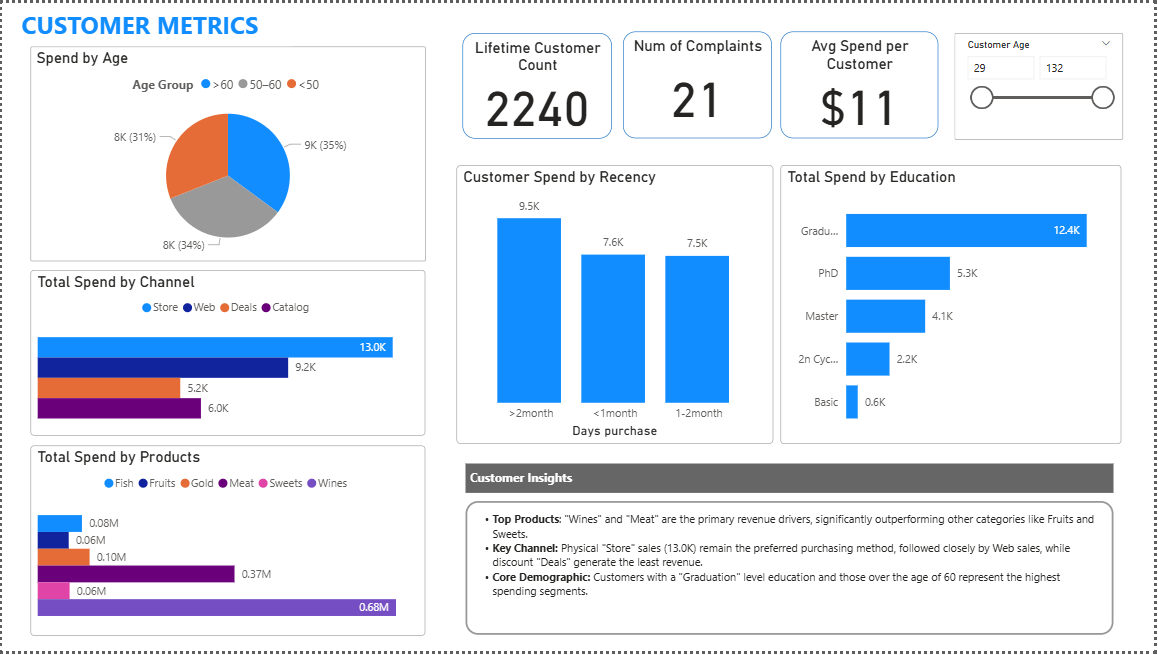

The page's visual inventory and layout, read from the dashboard file:
{"tool":"powerbi","page":{"name":"Customer Details","canvas":[1280,720],"ordinal":0},"visuals":[{"type":"card","title":"Lifetime Customer Count","fields":{"Values":["CountNonNull(marketing_campaign.ID)"]},"box":[512,33.7,165.9,117.3],"z":0,"group":"g1"},{"type":"pieChart","title":"Spend by Age","fields":{"Y":["Sum(marketing_campaign.Z_Revenue)"],"Category":["marketing_campaign.Age Group"]},"box":[31.3,48.4,439.5,238.9],"z":0},{"type":"card","title":"Num of Complaints","fields":{"Values":["Sum(marketing_campaign.Complain)"]},"box":[689.5,32,165,118.8],"z":1000,"group":"g1"},{"type":"textbox","box":[515.7,511.4,720,32.9],"z":1000},{"type":"card","title":"Avg Spend per Customer","fields":{"Values":["Avg(marketing_campaign.Z_Revenue)"]},"box":[865.8,32,175,118.8],"z":2000,"group":"g1"},{"type":"clusteredBarChart","title":"Total Spend by Channel","fields":{"Y":["Sum(marketing_campaign.NumStorePurchases)","Sum(marketing_campaign.NumWebPurchases)","Sum(marketing_campaign.NumDealsPurchases)","Sum(marketing_campaign.NumCatalogPurchases)"]},"box":[31.4,297.1,438.6,184.3],"z":2000},{"type":"textbox","box":[16,0,304,48],"z":3000},{"type":"textbox","box":[515.1,554,719.9,148.6],"z":4000},{"type":"group","id":"g1","title":"Group 2","box":[512,32,528.8,119],"z":5000},{"type":"clusteredColumnChart","title":"Customer Spend by Recency","fields":{"Category":["marketing_campaign.Days purchase"],"Y":["Sum(marketing_campaign.Z_Revenue)"]},"box":[505,180.3,352,310.2],"z":6000},{"type":"clusteredBarChart","title":"Total Spend by Products","fields":{"Y":["Sum(marketing_campaign.MntFishProducts)","Sum(marketing_campaign.MntFruits)","Sum(marketing_campaign.MntGoldProds)","Sum(marketing_campaign.MntMeatProducts)","Sum(marketing_campaign.MntSweetProducts)","Sum(marketing_campaign.MntWines)"]},"box":[31.4,491.4,438.6,211.4],"z":7000},{"type":"slicer","fields":{"Values":["marketing_campaign.Age"]},"box":[1057.5,32.5,187.5,118.8],"z":8000},{"type":"clusteredBarChart","title":"Total Spend by Education","fields":{"Category":["marketing_campaign.Education"],"Y":["Sum(marketing_campaign.Z_Revenue)"]},"box":[865.7,180,378.6,310],"z":9000}]}

Visuals, with their boxes in screenshot pixels (x1, y1, x2, y2), scaled from the page's 1280x720 canvas onto the 1158x655 screenshot:
"Lifetime Customer Count" card: crop(463, 31, 613, 137)
"Spend by Age" pieChart: crop(28, 44, 426, 261)
"Num of Complaints" card: crop(624, 29, 773, 137)
textbox: crop(467, 465, 1118, 495)
"Avg Spend per Customer" card: crop(783, 29, 942, 137)
"Total Spend by Channel" clusteredBarChart: crop(28, 270, 425, 438)
textbox: crop(14, 0, 290, 44)
textbox: crop(466, 504, 1117, 639)
"Group 2" group: crop(463, 29, 942, 137)
"Customer Spend by Recency" clusteredColumnChart: crop(457, 164, 775, 446)
"Total Spend by Products" clusteredBarChart: crop(28, 447, 425, 639)
slicer - marketing_campaign.Age: crop(957, 30, 1126, 138)
"Total Spend by Education" clusteredBarChart: crop(783, 164, 1126, 446)
